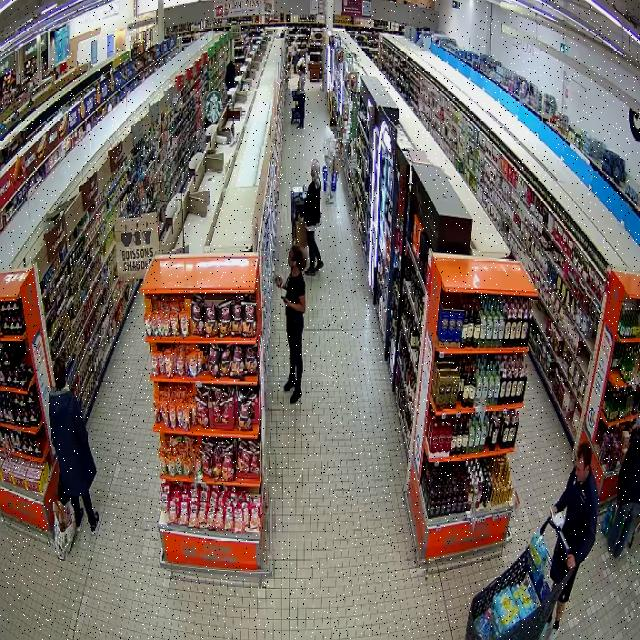hands: (566, 554, 576, 569), (282, 298, 294, 308), (551, 505, 557, 517)
person: (545, 443, 596, 639), (49, 361, 98, 533), (275, 244, 305, 403), (607, 429, 639, 557), (304, 159, 323, 274)
